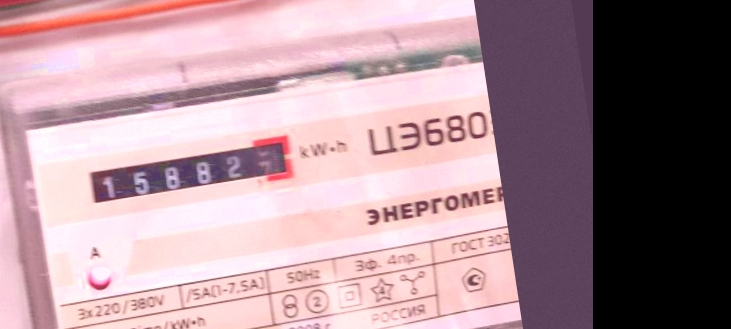1: (100, 173, 117, 200)
2: (224, 151, 244, 179)
5: (130, 168, 150, 195)
7: (256, 156, 272, 174)
8: (192, 157, 212, 184), (161, 163, 181, 189)
screen: (73, 125, 305, 218)
